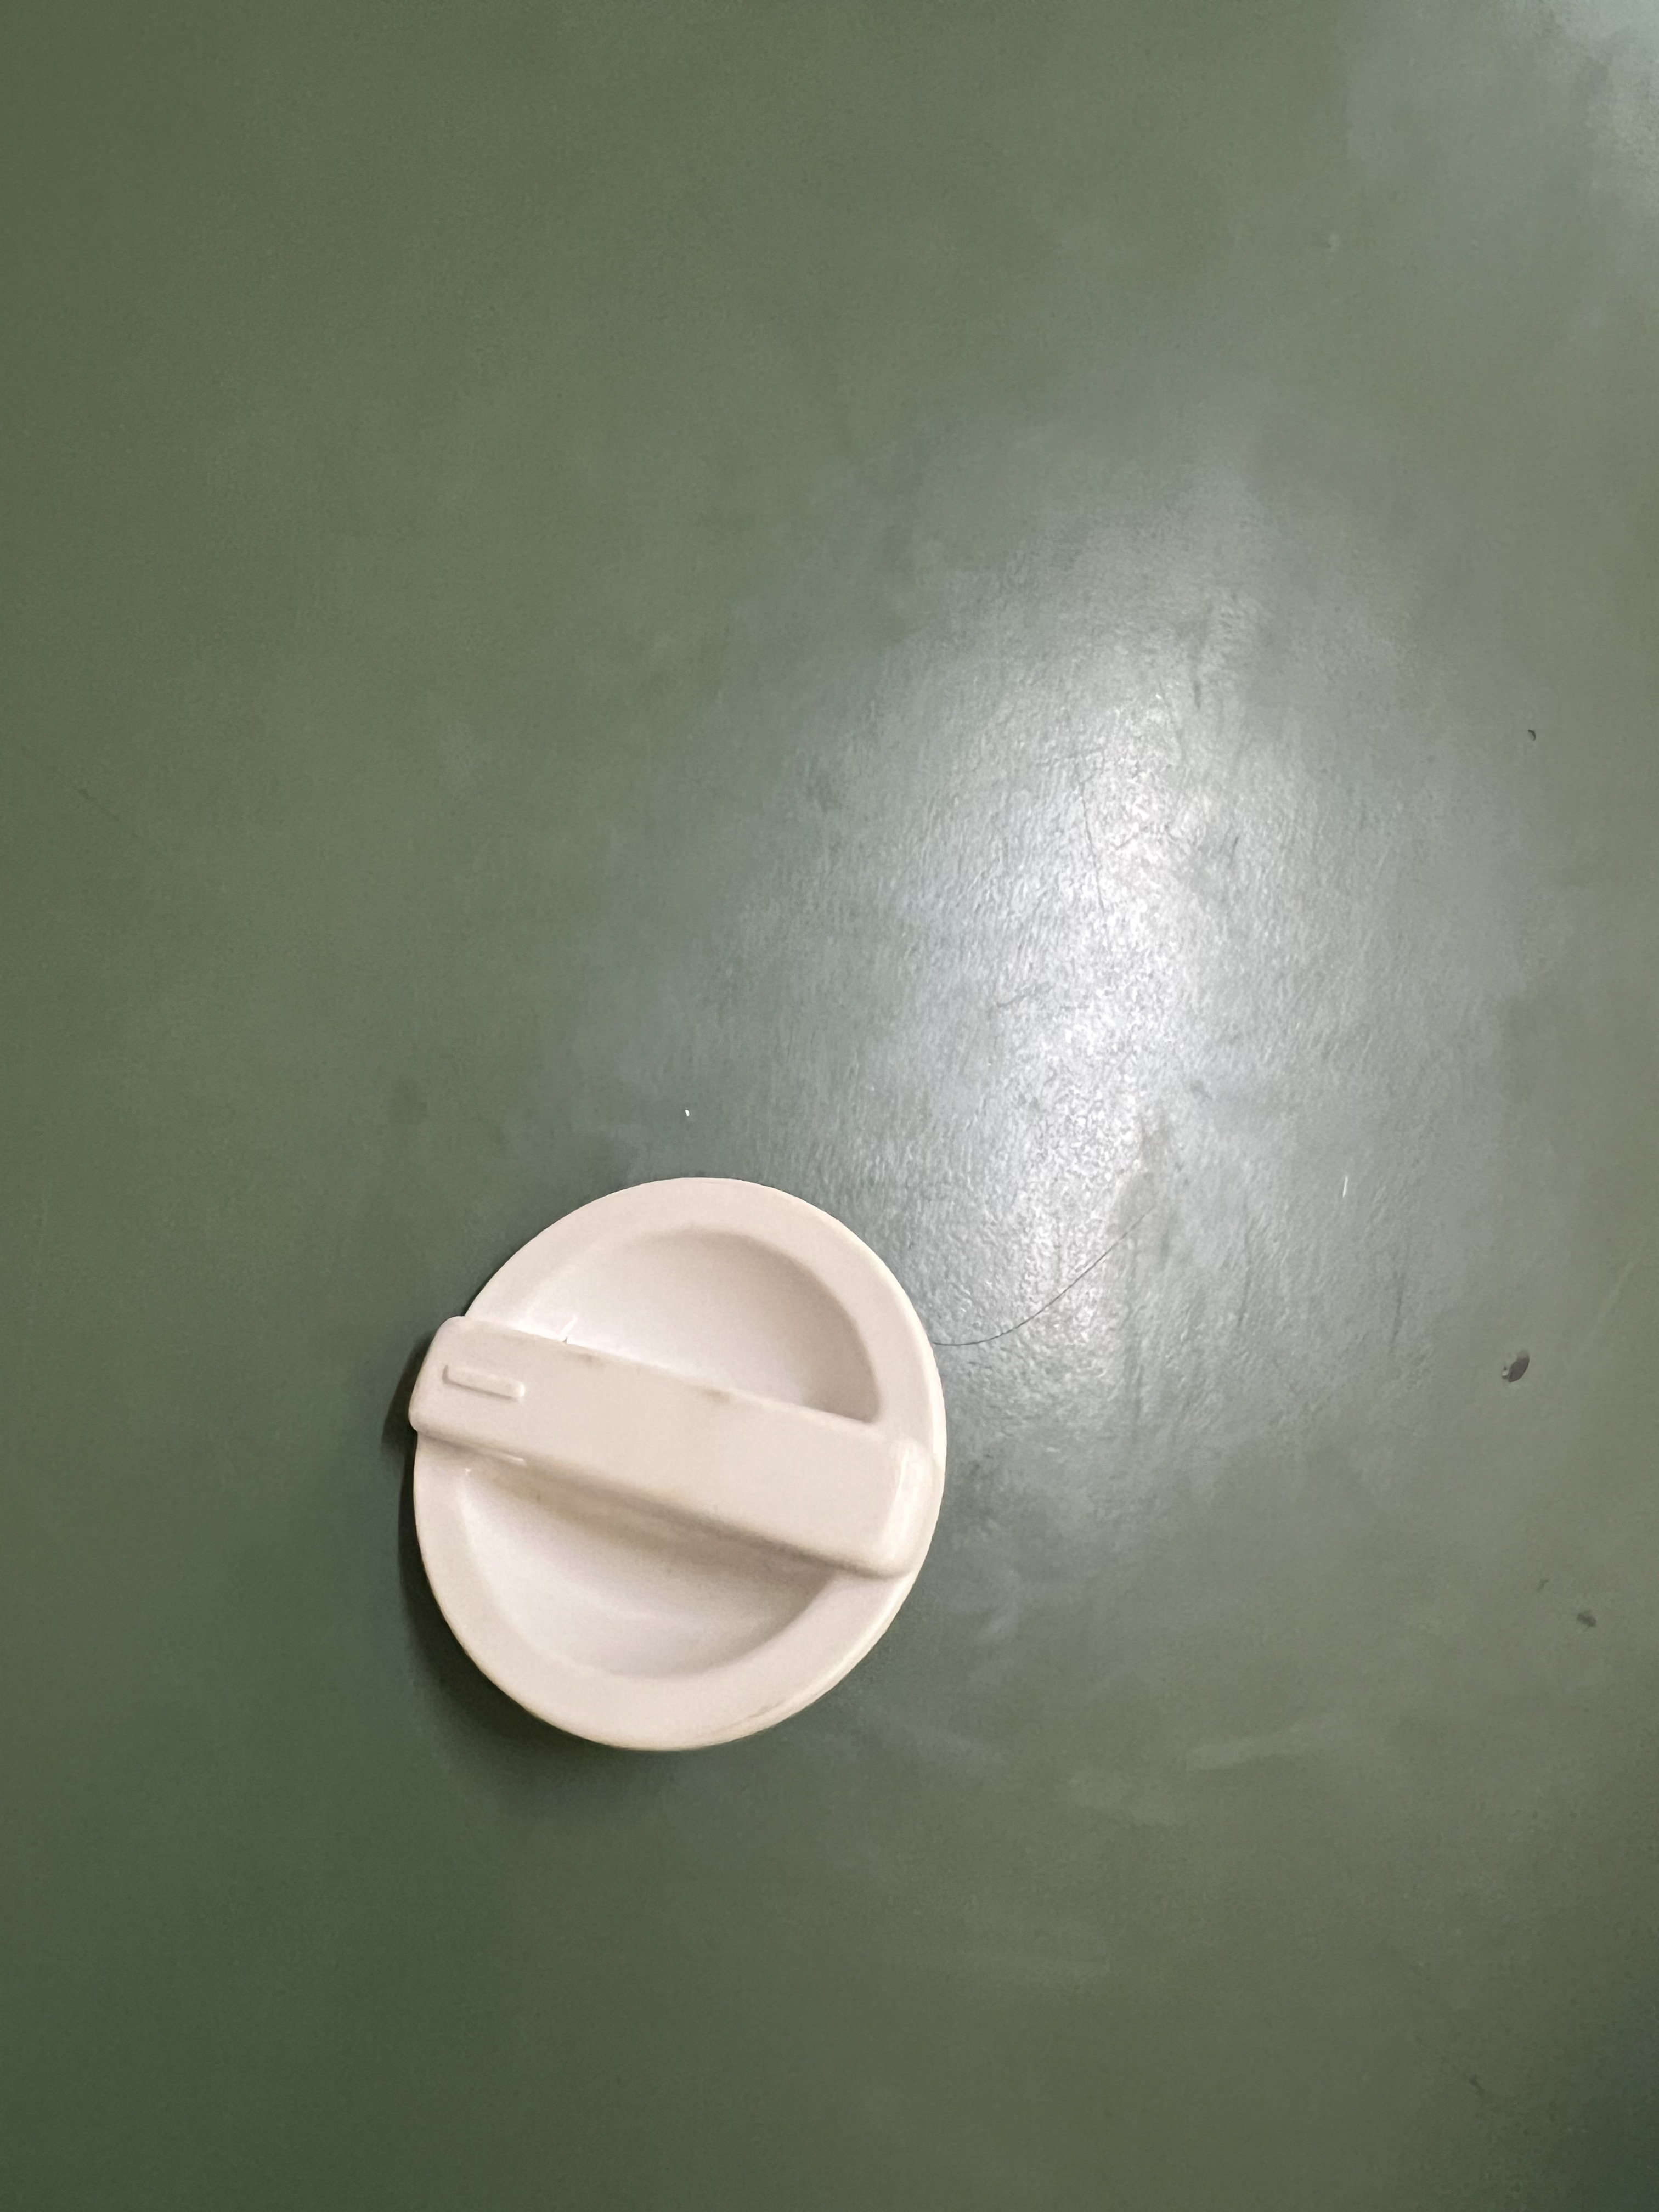regulator: (389, 1186, 958, 1784)
